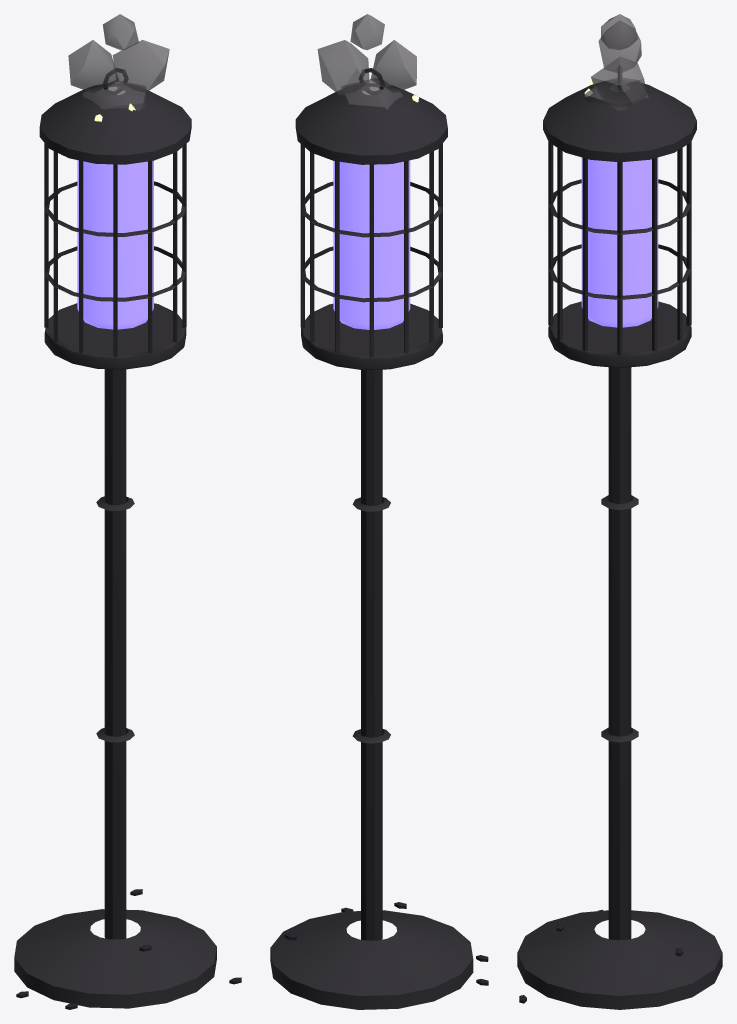
File: zapper_fly.glb
3 views of the same model, side by side, from view 1: azimuth 30°, elevation 25°; view 2: azimuth 150°, elevation 25°; view 3: azimuth 270°, elevation 25° (orthographic).
Visible parts, largest first — view 1: zapper_fly, glow, broken; view 2: zapper_fly, glow, broken; view 3: zapper_fly, glow, broken.
Boxes of the visible parts, bbox=[...] form: zapper_fly: bbox=[14, 68, 241, 1009]; glow: bbox=[77, 160, 153, 329]; broken: bbox=[68, 14, 169, 121]; zapper_fly: bbox=[270, 68, 488, 1009]; glow: bbox=[333, 160, 410, 329]; broken: bbox=[317, 14, 418, 110]; zapper_fly: bbox=[517, 65, 722, 1009]; glow: bbox=[581, 157, 658, 327]; broken: bbox=[584, 14, 648, 110].
Bounding box in the file's own units: 0.4438 × 2.05 × 0.4.
